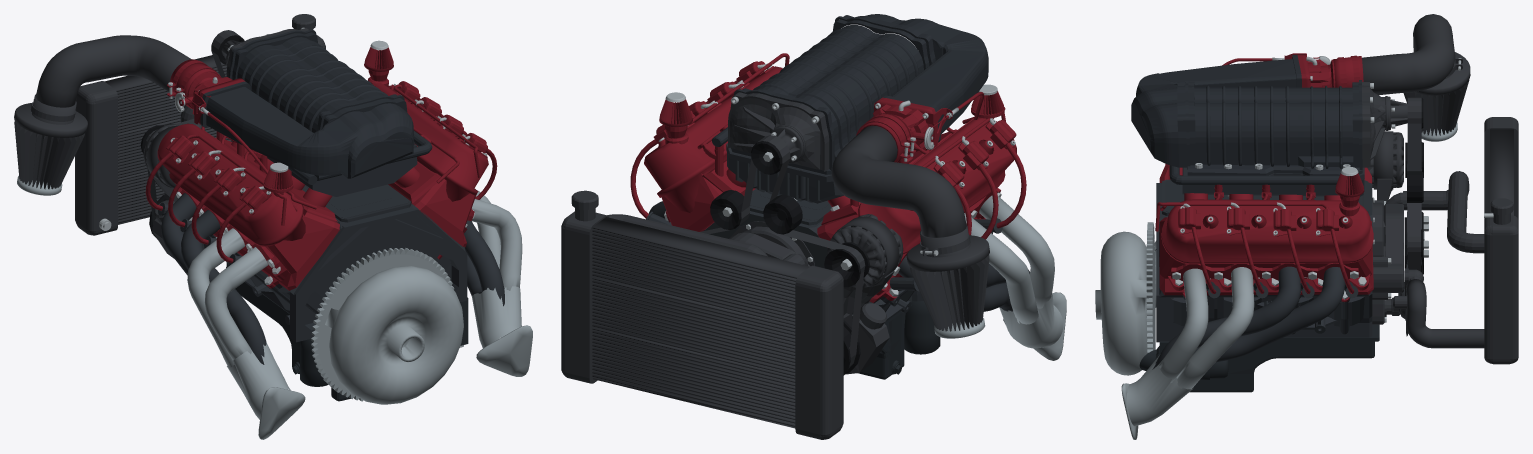
The picture shows the model from 3 angles, left to right: view 1: azimuth 30°, elevation 25°; view 2: azimuth 150°, elevation 25°; view 3: azimuth 270°, elevation 25°; orthographic projection. The views are drawn at different scales.
Visible parts, largest first — view 1: heads__heads, timing__timing, intake__intake, block__block, crankshaft__steel, block__steel, oil__oil, heads__bolts, timing__rubber; view 2: timing__timing, heads__heads, intake__intake, block__steel, block__block, timing__rubber, oil__oil, heads__bolts, timing__bolts, timing__steel; view 3: timing__timing, intake__intake, heads__heads, block__block, block__steel, crankshaft__steel, oil__oil, heads__bolts, timing__rubber, timing__bolts.
Part boxes in pixels (x1=…): heads__heads: x1=145, y1=47, x2=497, y2=290; timing__timing: x1=14, y1=14, x2=325, y2=258; intake__intake: x1=200, y1=29, x2=432, y2=184; block__block: x1=158, y1=144, x2=504, y2=364; crankshaft__steel: x1=311, y1=248, x2=463, y2=404; block__steel: x1=187, y1=190, x2=532, y2=439; oil__oil: x1=226, y1=267, x2=468, y2=401; heads__bolts: x1=168, y1=40, x2=487, y2=274; timing__rubber: x1=140, y1=35, x2=244, y2=239; timing__timing: x1=561, y1=92, x2=989, y2=439; heads__heads: x1=630, y1=53, x2=1026, y2=302; intake__intake: x1=712, y1=14, x2=988, y2=174; block__steel: x1=964, y1=195, x2=1066, y2=360; block__block: x1=646, y1=143, x2=1029, y2=322; timing__rubber: x1=710, y1=141, x2=869, y2=375; oil__oil: x1=858, y1=301, x2=940, y2=379; heads__bolts: x1=659, y1=63, x2=1015, y2=289; timing__bolts: x1=722, y1=96, x2=938, y2=270; timing__steel: x1=934, y1=318, x2=985, y2=338; timing__timing: x1=1362, y1=14, x2=1518, y2=364; intake__intake: x1=1131, y1=55, x2=1362, y2=184; heads__heads: x1=1155, y1=53, x2=1373, y2=302; block__block: x1=1152, y1=167, x2=1372, y2=369; block__steel: x1=1121, y1=241, x2=1254, y2=439; crankshaft__steel: x1=1095, y1=222, x2=1155, y2=375; oil__oil: x1=1139, y1=324, x2=1379, y2=392; heads__bolts: x1=1172, y1=56, x2=1366, y2=286; timing__rubber: x1=1404, y1=98, x2=1423, y2=274; timing__bolts: x1=1370, y1=58, x2=1493, y2=322.
Bounding box in the file's own units: 4.4 × 3.24 × 4.38.
